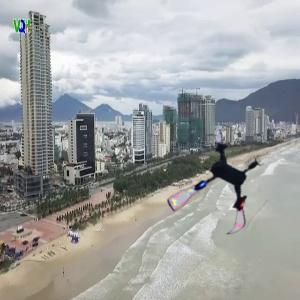drone: (168, 136, 274, 242)
